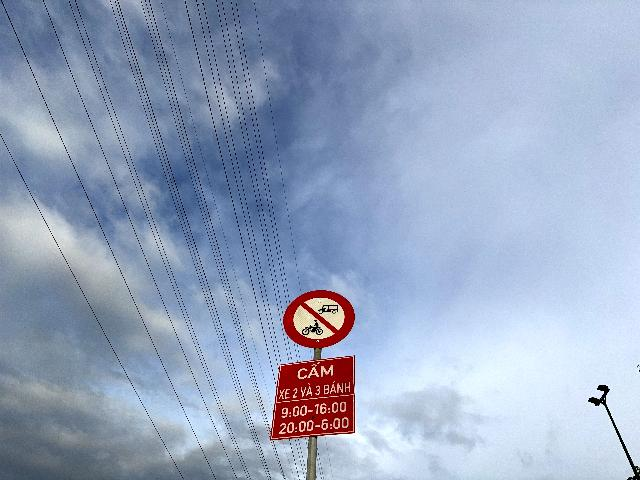cam-xe-2-banh-3-banh: (283, 290, 355, 348)
